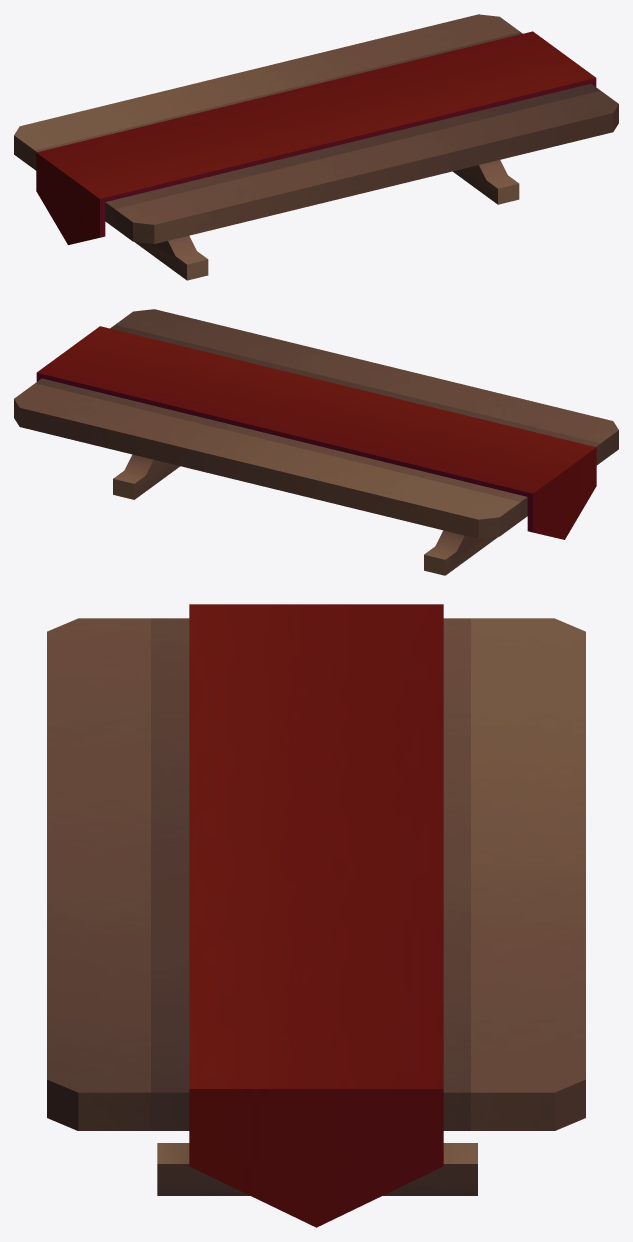
Rendered from table_large_cloth.fbx.
The picture shows the model from 3 angles, top to bottom: view 1: azimuth 30°, elevation 25°; view 2: azimuth 150°, elevation 25°; view 3: azimuth 270°, elevation 25°; orthographic projection. The views are drawn at different scales.
Visible parts, largest first — view 1: table_large_cloth; view 2: table_large_cloth; view 3: table_large_cloth.
Boxes of the visible parts, bbox=[...] form: table_large_cloth: bbox=[14, 14, 618, 280]; table_large_cloth: bbox=[14, 309, 618, 575]; table_large_cloth: bbox=[47, 604, 585, 1227].
Bounding box in the file's own units: 358 × 65.47 × 168.
